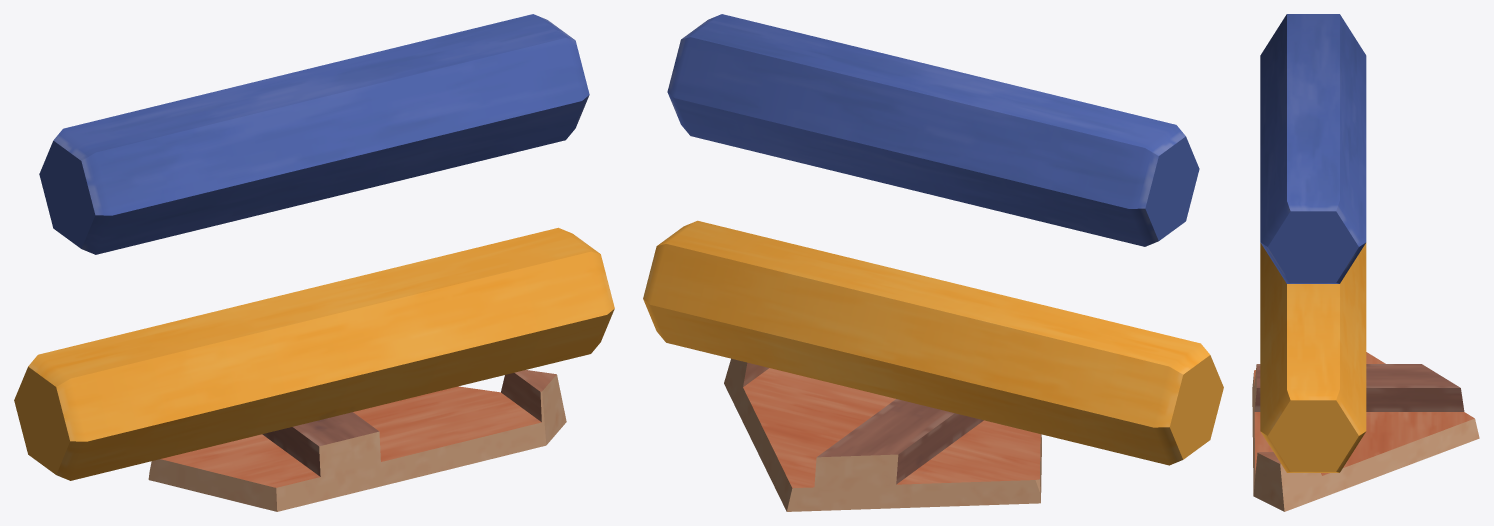
Rendered from bolts_s01.fbx.
The picture shows the model from 3 angles, left to right: view 1: azimuth 30°, elevation 25°; view 2: azimuth 150°, elevation 25°; view 3: azimuth 270°, elevation 25°; orthographic projection. The views are drawn at different scales.
Parts seen in each view (by area): view 1: bolts_s01; view 2: bolts_s01; view 3: bolts_s01.
Part boxes in pixels (box(x1,y1,x2,y2)): bolts_s01: box(14, 14, 614, 511); bolts_s01: box(643, 14, 1223, 511); bolts_s01: box(1252, 14, 1479, 511).
Bounding box in the file's own units: 5.4 × 3.63 × 2.4.
